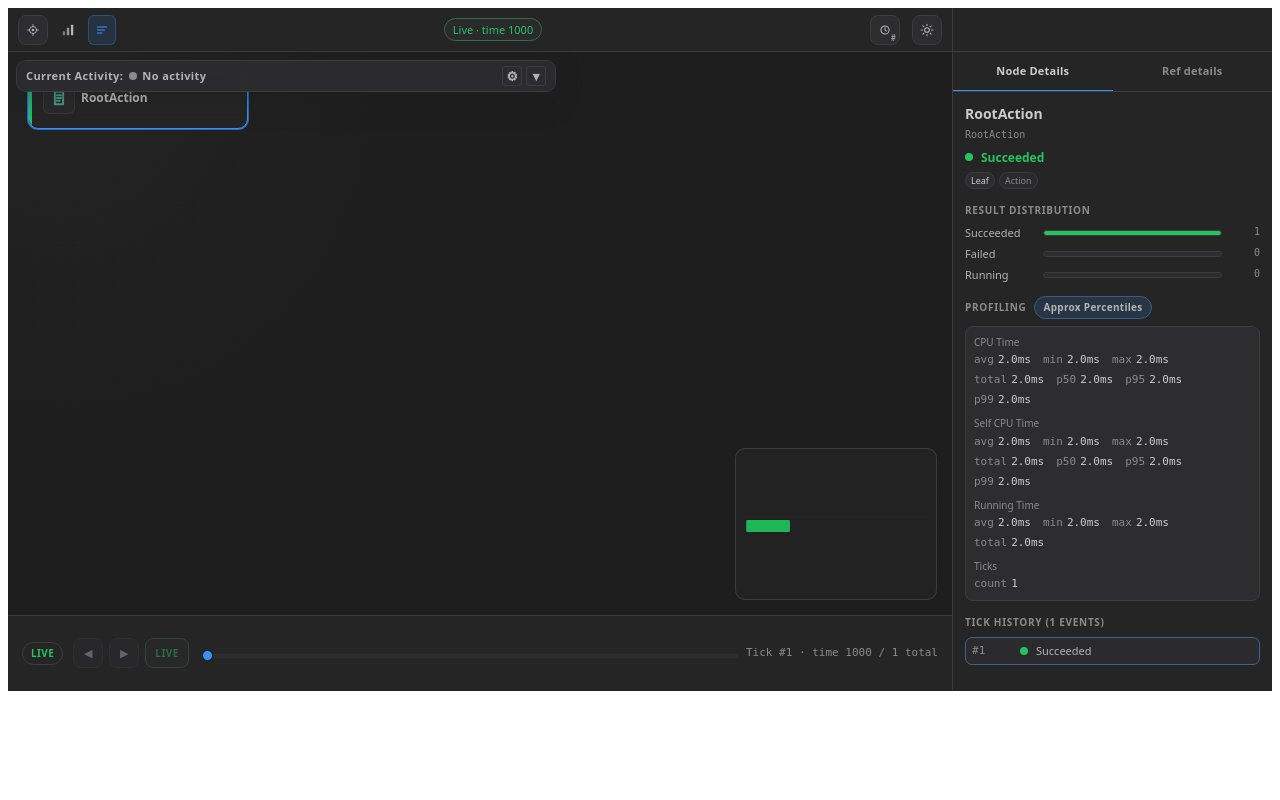
Test: BehaviourTreeDebugger time-travel percentile mode › toggles the floating current activity window from toolbar
Expected: the text "Current Activity:" is shown, [26, 69, 123, 83]
Click the button named "Hide current activity window".
click(102, 30)  # box [88, 14, 116, 44]
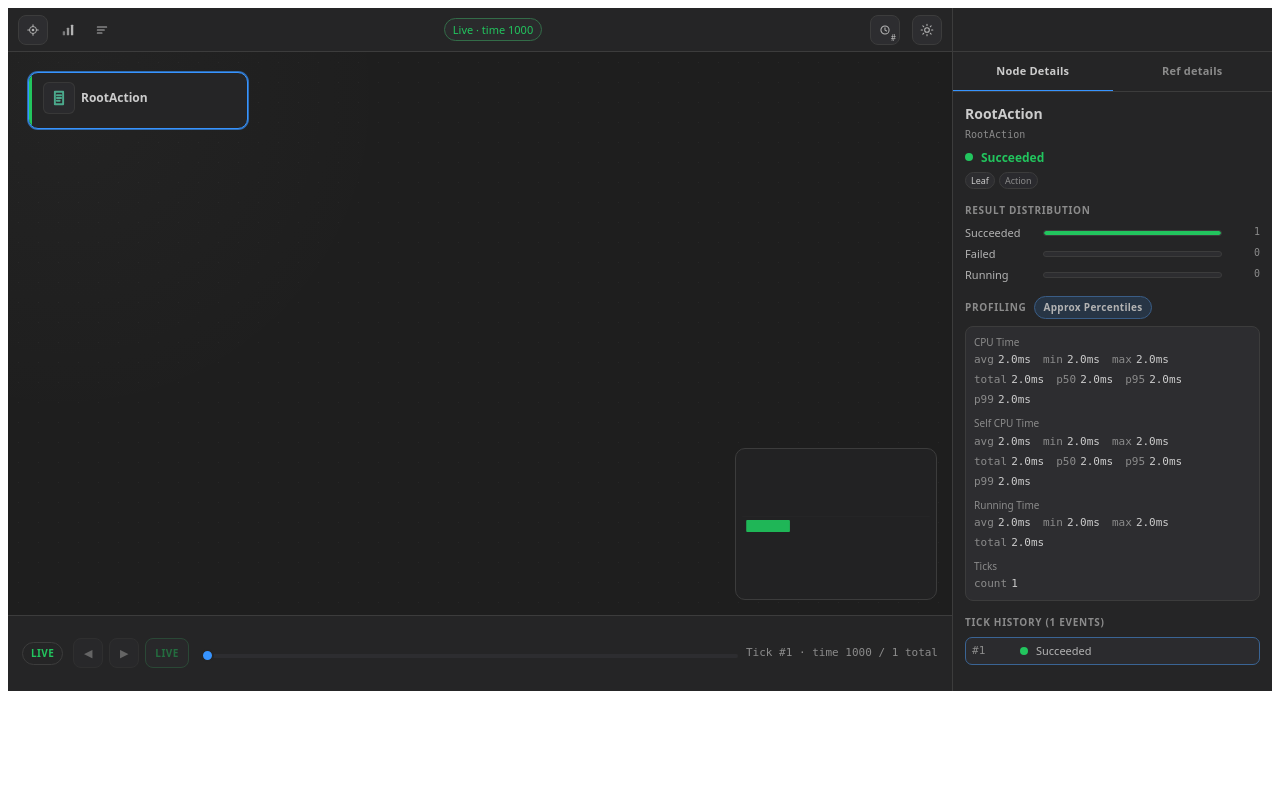
Now the text "Current Activity" is gone
Now the button named "Show current activity window" is shown, box [88, 14, 116, 44]
